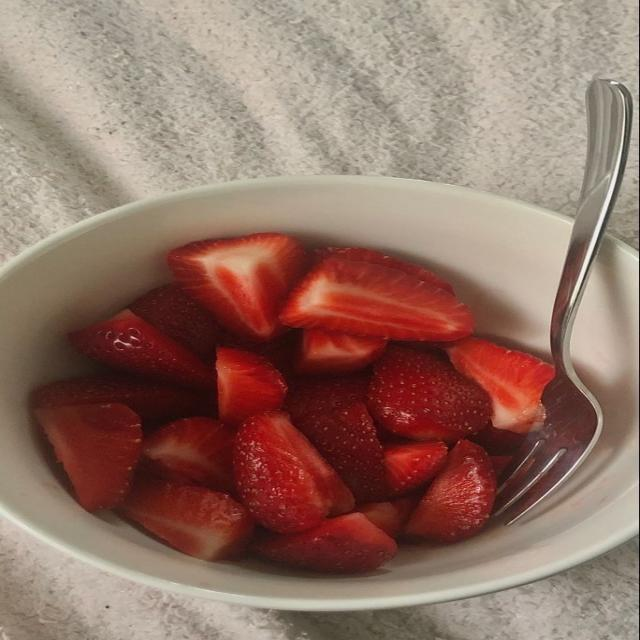strawberry sliced: (280, 258, 473, 340), (168, 233, 305, 340), (234, 412, 353, 532), (286, 374, 390, 502), (368, 346, 491, 440), (35, 404, 142, 510), (69, 310, 212, 388), (121, 480, 253, 560), (447, 338, 553, 433), (292, 403, 391, 501), (407, 440, 495, 542), (252, 514, 396, 572), (31, 375, 205, 422), (129, 284, 221, 358), (144, 418, 234, 492), (314, 247, 452, 292), (216, 348, 287, 424), (297, 329, 386, 373), (219, 330, 301, 375), (384, 442, 448, 493), (355, 502, 406, 538), (469, 424, 525, 455), (392, 491, 421, 537), (491, 456, 512, 478)
